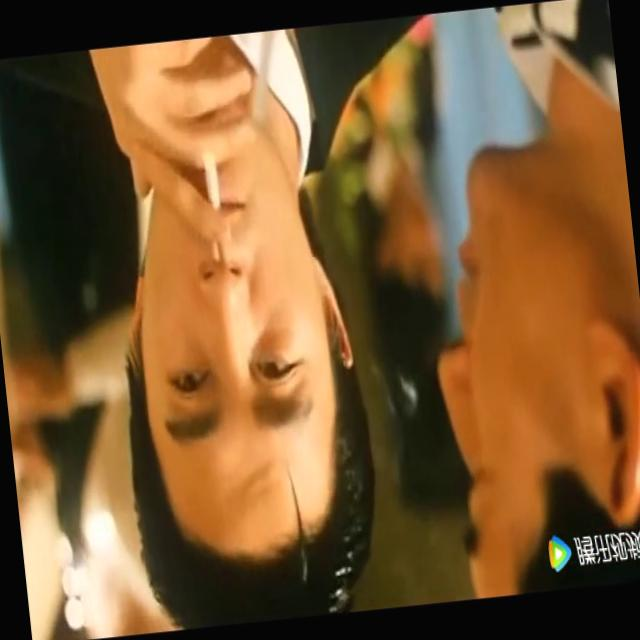smoke: (200, 150, 222, 203)
